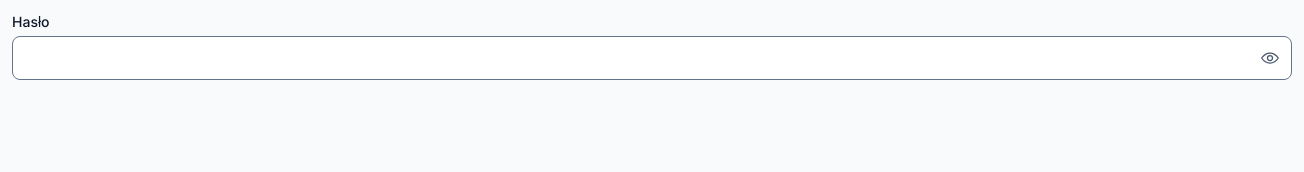
Test case: FormInput › switches the password input between password and text
Click the button named "Pokaż hasło" at point(1270, 58), box [1248,36,1292,80]
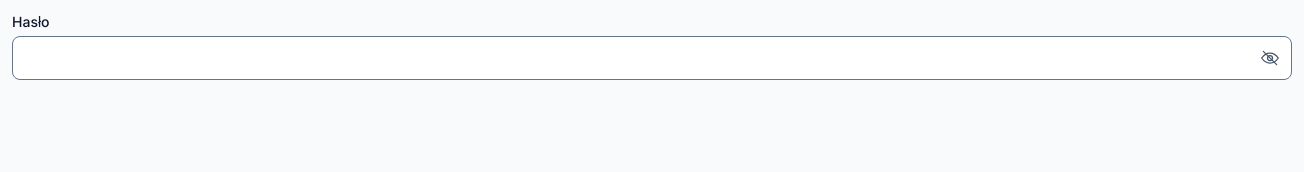
Click the button named "Ukryj hasło" at point(1270, 58), box [1248,36,1292,80]
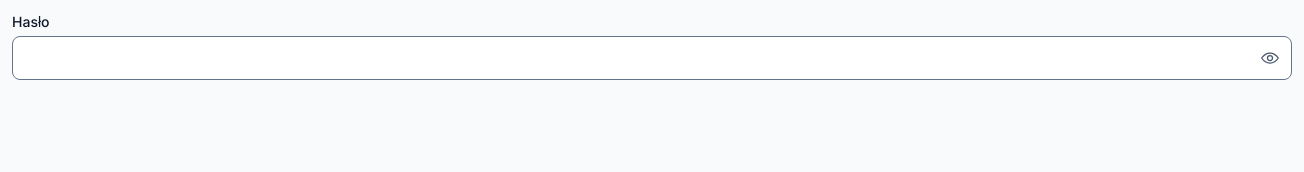
Result: the button named "Pokaż hasło" is shown at [1248,36,1292,80]
